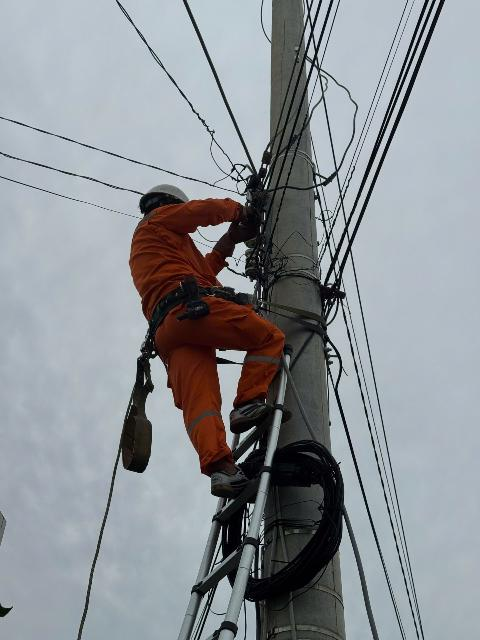gloves: (204, 215, 266, 255), (227, 201, 267, 227)
helmet: (115, 176, 204, 219)
shoes: (200, 453, 269, 503), (219, 392, 290, 426)
